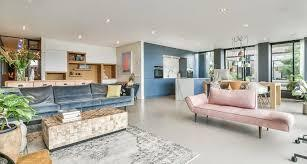chair: (0, 143, 54, 164), (247, 81, 271, 104), (124, 84, 142, 103)
light: (75, 31, 88, 40), (148, 26, 158, 34), (241, 23, 251, 29), (22, 23, 29, 31), (287, 31, 298, 36), (103, 19, 112, 25), (263, 36, 270, 43), (114, 41, 122, 45)
sofa: (187, 91, 292, 139), (0, 84, 136, 111)
table: (43, 108, 131, 148), (203, 81, 279, 106), (175, 77, 207, 95)
